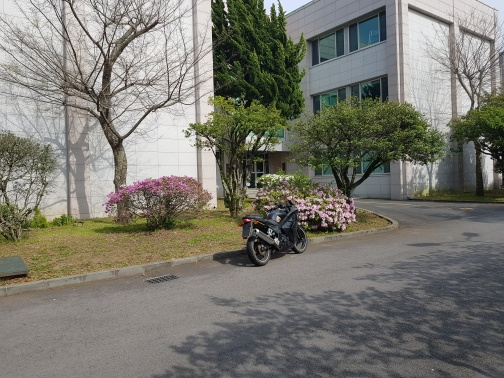College of Nursing: (4, 3, 487, 188)
